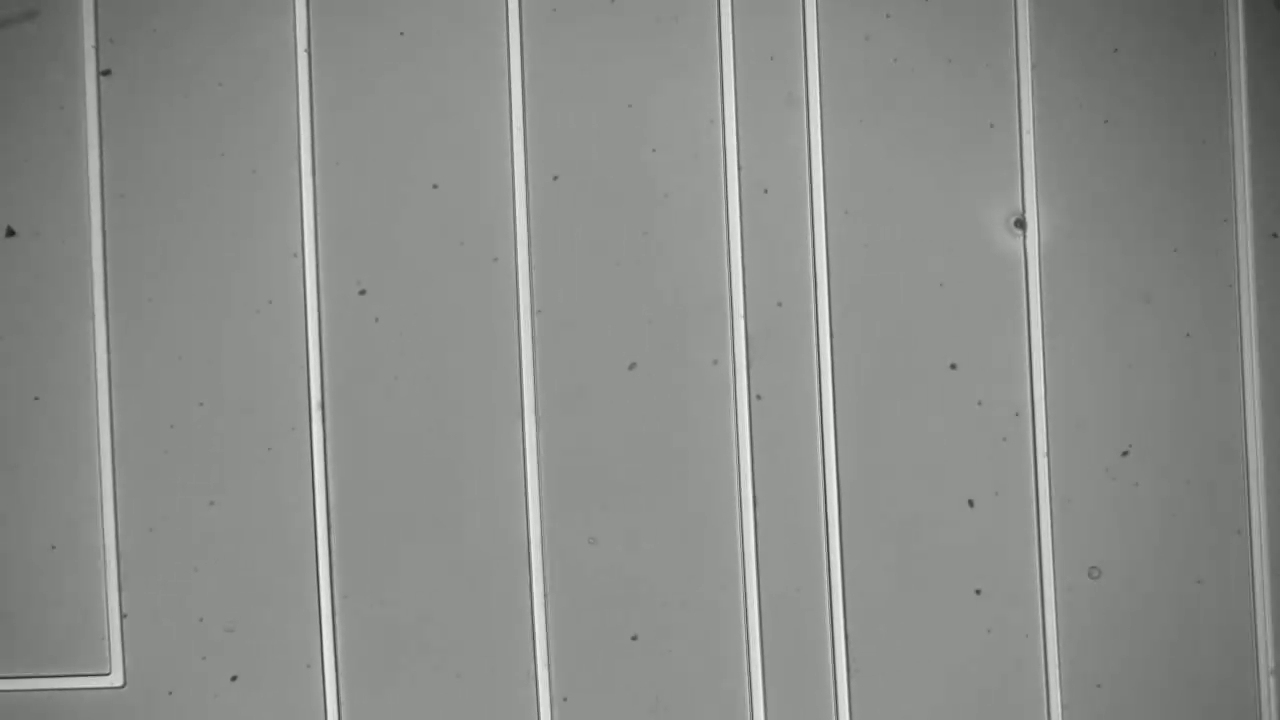stains_enbedded: (1008, 205, 1041, 240)
